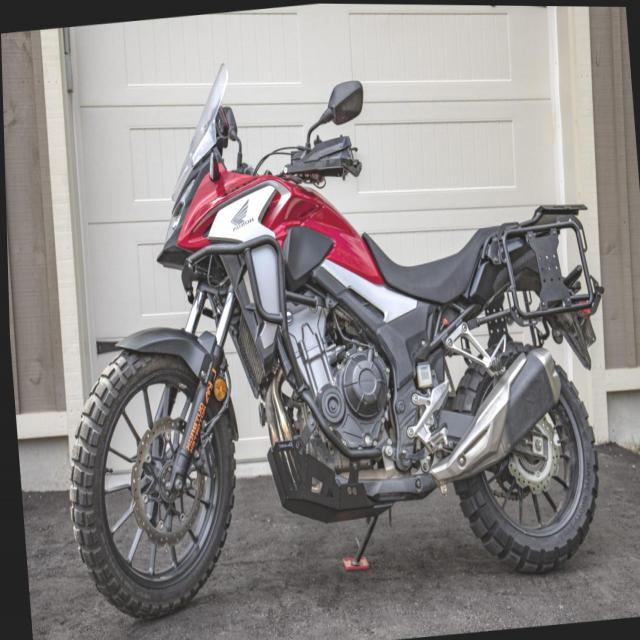CB500X: (34, 18, 621, 628)
